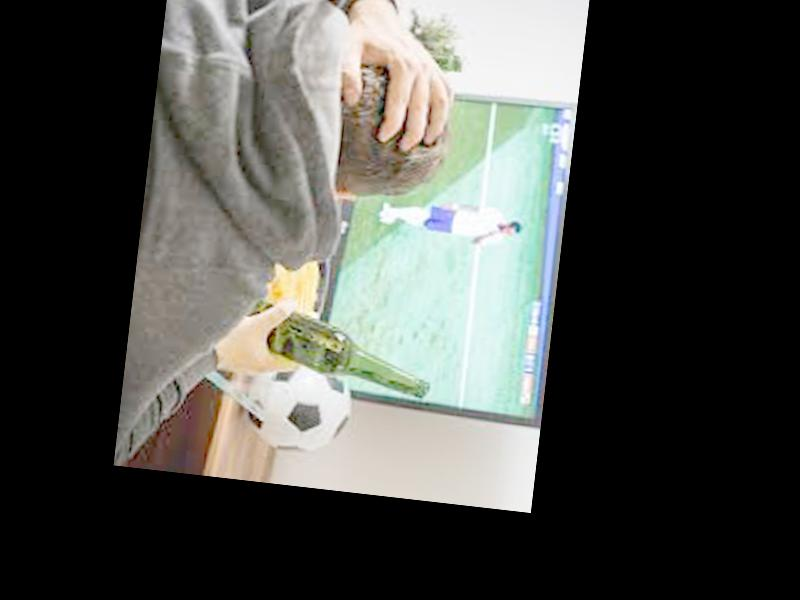Beer: (236, 304, 436, 399)
